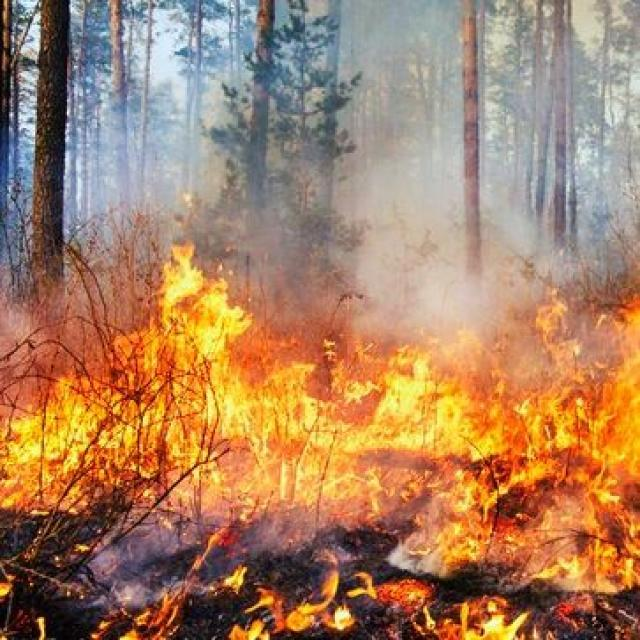Fire: (0, 314, 640, 564), (242, 569, 346, 638), (434, 587, 526, 640), (104, 592, 198, 640)
Smoke: (304, 6, 533, 345), (6, 64, 306, 322), (525, 96, 640, 322)
